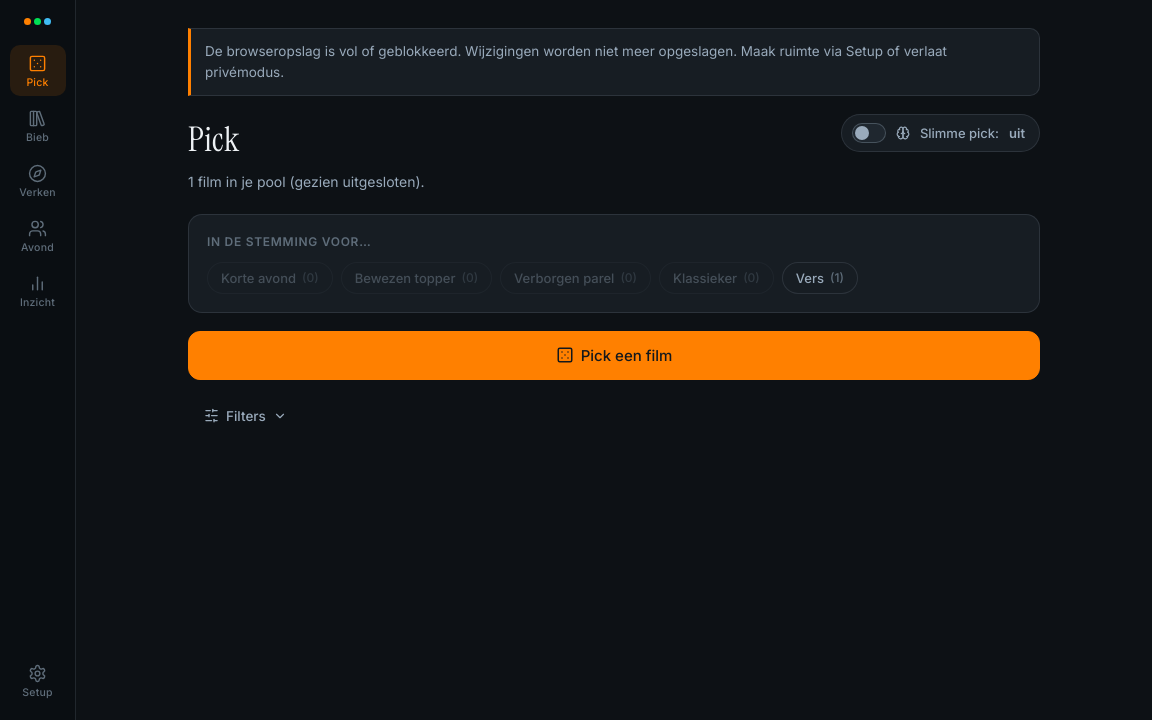
Scenario: V2 smoke › proxy: sleutelloze gebruiker ziet werkende tool, geen sleutel-schermen
Click the button "Verken" at [38, 180], box [10,155,66,206]
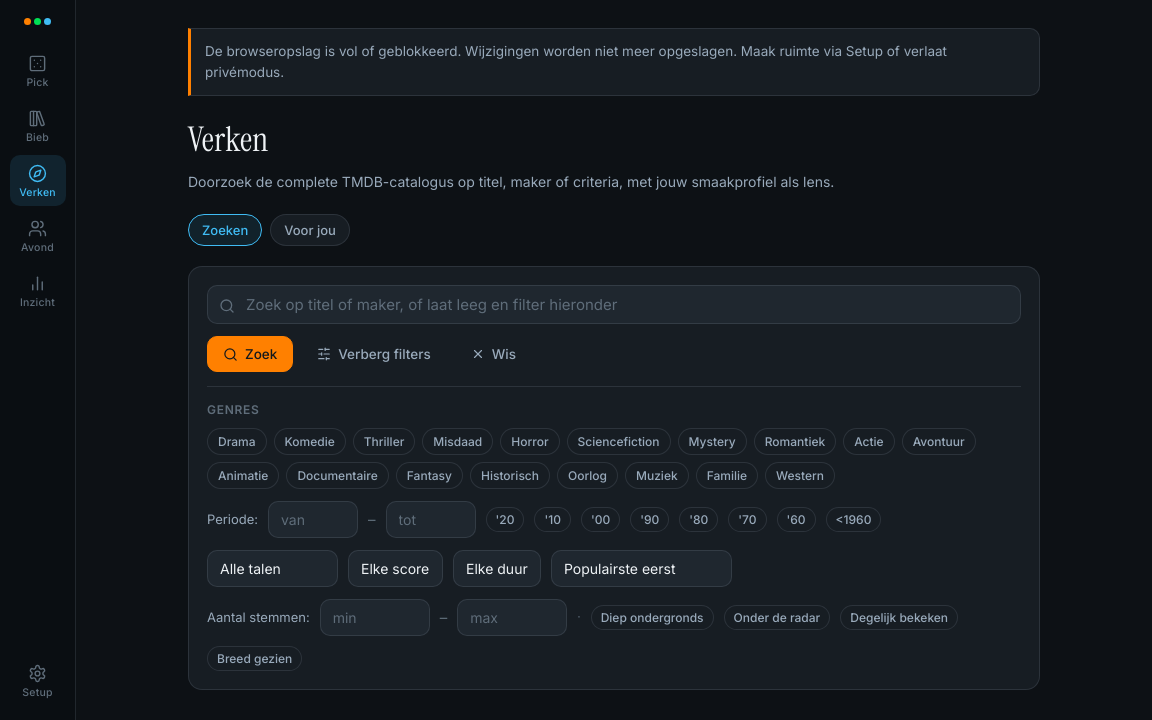
Click the button labelled "Setup" at [38, 680], box [10,655,66,706]
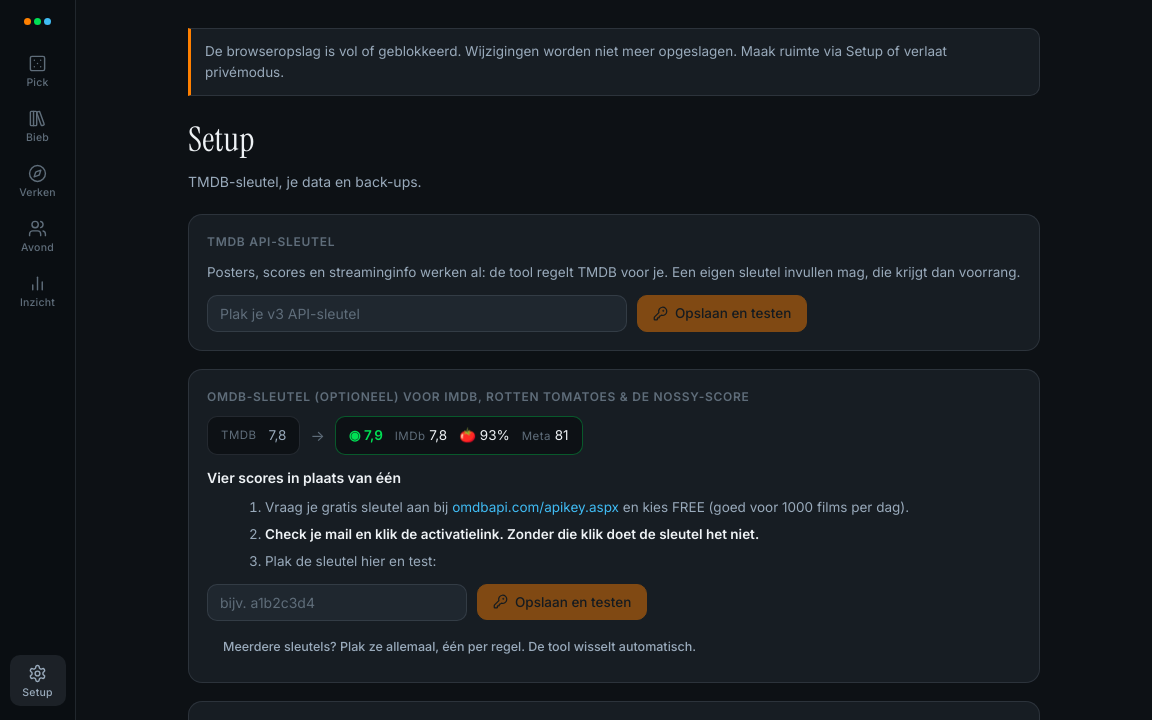
Check: the text "de tool regelt TMDB voor je" is shown, box [207,264,1020,280]
